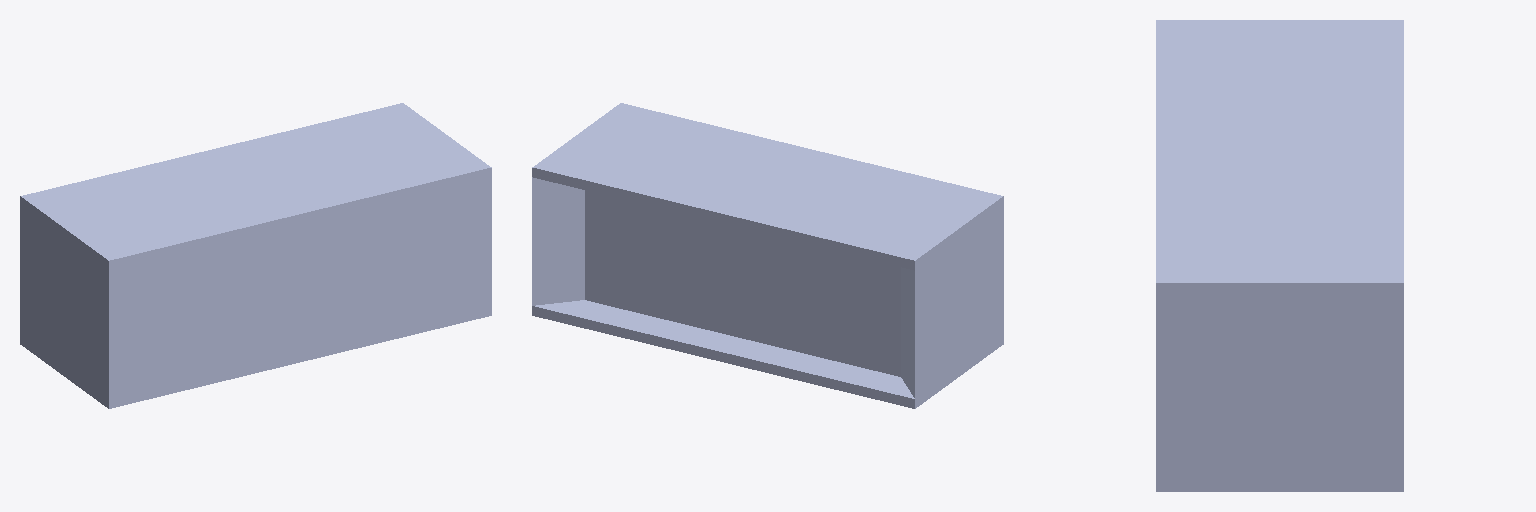
The robot description file, URDF, robot "house_model_v2":
<?xml version="1.0" encoding="utf-8"?>
<!-- This URDF was automatically created by SolidWorks to URDF Exporter! Originally created by [author] ([email redacted]) 
     Commit Version: 1.6.0-1-g15f4949  Build Version: 1.6.7594.29634
     For more information, please see http://wiki.ros.org/sw_urdf_exporter -->
<robot
  name="house_model_v2">
  <link
    name="base_link">
    <inertial>
      <origin
        xyz="2.75619177564654 4.20678392825889 6.91751012666445"
        rpy="0 0 0" />
      <mass
        value="43317.9226500504" />
      <inertia
        ixx="67695.8094190887"
        ixy="-2.63114731597808E-12"
        ixz="7.5099372276336E-11"
        iyy="314958.41530629"
        iyz="3.51057142529777E-12"
        izz="325460.745406259" />
    </inertial>
    <visual>
      <origin
        xyz="0 0 0"
        rpy="0 0 0" />
      <geometry>
        <mesh
          filename="package://house_model_v2/meshes/base_link.STL" />
      </geometry>
      <material
        name="">
        <color
          rgba="0.792156862745098 0.819607843137255 0.933333333333333 1" />
      </material>
    </visual>
    <collision>
      <origin
        xyz="0 0 0"
        rpy="0 0 0" />
      <geometry>
        <mesh
          filename="package://house_model_v2/meshes/base_link.STL" />
      </geometry>
    </collision>
  </link>
  <link
    name="window1">
    <inertial>
      <origin
        xyz="1.675 0.100000000000001 1.3"
        rpy="0 0 0" />
      <mass
        value="1742" />
      <inertia
        ixx="987.133333333334"
        ixy="-3.59046126163815E-15"
        ixz="-1.24332766304747E-13"
        iyy="2610.45958333334"
        iyz="-7.68644407382029E-16"
        izz="1634.93958333333" />
    </inertial>
    <visual>
      <origin
        xyz="0 0 0"
        rpy="0 0 0" />
      <geometry>
        <mesh
          filename="package://house_model_v2/meshes/window1.STL" />
      </geometry>
      <material
        name="">
        <color
          rgba="0.792156862745098 0.819607843137255 0.933333333333333 1" />
      </material>
    </visual>
    <collision>
      <origin
        xyz="0 0 0"
        rpy="0 0 0" />
      <geometry>
        <mesh
          filename="package://house_model_v2/meshes/window1.STL" />
      </geometry>
    </collision>
  </link>
  <joint
    name="window1_joint"
    type="fixed">
    <origin
      xyz="6.10619177564652 -5.45225492259376 2.90678392825889"
      rpy="0 0 3.14159265358979" />
    <parent
      link="base_link" />
    <child
      link="window1" />
    <axis
      xyz="0 0 0" />
  </joint>
  <link
    name="window2">
    <inertial>
      <origin
        xyz="-1.675 0.0999999999999996 1.3"
        rpy="0 0 0" />
      <mass
        value="1742" />
      <inertia
        ixx="987.133333333334"
        ixy="3.71850698381133E-15"
        ixz="1.45531734811282E-14"
        iyy="2610.45958333334"
        iyz="-7.68644407382278E-16"
        izz="1634.93958333333" />
    </inertial>
    <visual>
      <origin
        xyz="0 0 0"
        rpy="0 0 0" />
      <geometry>
        <mesh
          filename="package://house_model_v2/meshes/window2.STL" />
      </geometry>
      <material
        name="">
        <color
          rgba="0.792156862745098 0.819607843137255 0.933333333333333 1" />
      </material>
    </visual>
    <collision>
      <origin
        xyz="0 0 0"
        rpy="0 0 0" />
      <geometry>
        <mesh
          filename="package://house_model_v2/meshes/window2.STL" />
      </geometry>
    </collision>
  </link>
  <joint
    name="window2_joint"
    type="fixed">
    <origin
      xyz="-0.59380822435346 -5.45225492259374 2.90678392825889"
      rpy="0 0 3.14159265358979" />
    <parent
      link="base_link" />
    <child
      link="window2" />
    <axis
      xyz="0 0 0" />
  </joint>
</robot>

--- What the picture shows (computed from the rendered views, not written in the file) ---
The picture shows the robot from 3 angles, left to right: view 1: azimuth 30°, elevation 25°; view 2: azimuth 150°, elevation 25°; view 3: azimuth 270°, elevation 25°; orthographic projection.
Robot: house_model_v2 — 3 links, 2 joints (2 fixed); root link base_link; default pose: every joint at zero.
Links seen in each view (by area): view 1: base_link; view 2: base_link, window1, window2; view 3: base_link.
Boxes of the visible links, bbox=[...] form: base_link: bbox=[20, 103, 491, 408]; base_link: bbox=[532, 103, 1003, 408]; window1: bbox=[585, 190, 742, 338]; window2: bbox=[743, 229, 900, 376]; base_link: bbox=[1156, 20, 1403, 491].
Bounding box of the posed robot: 8.1 × 3.24 × 3 m (x, y, z).
Meshes: 3 distinct files referenced, 3 mesh visuals loaded (3 binary STL).